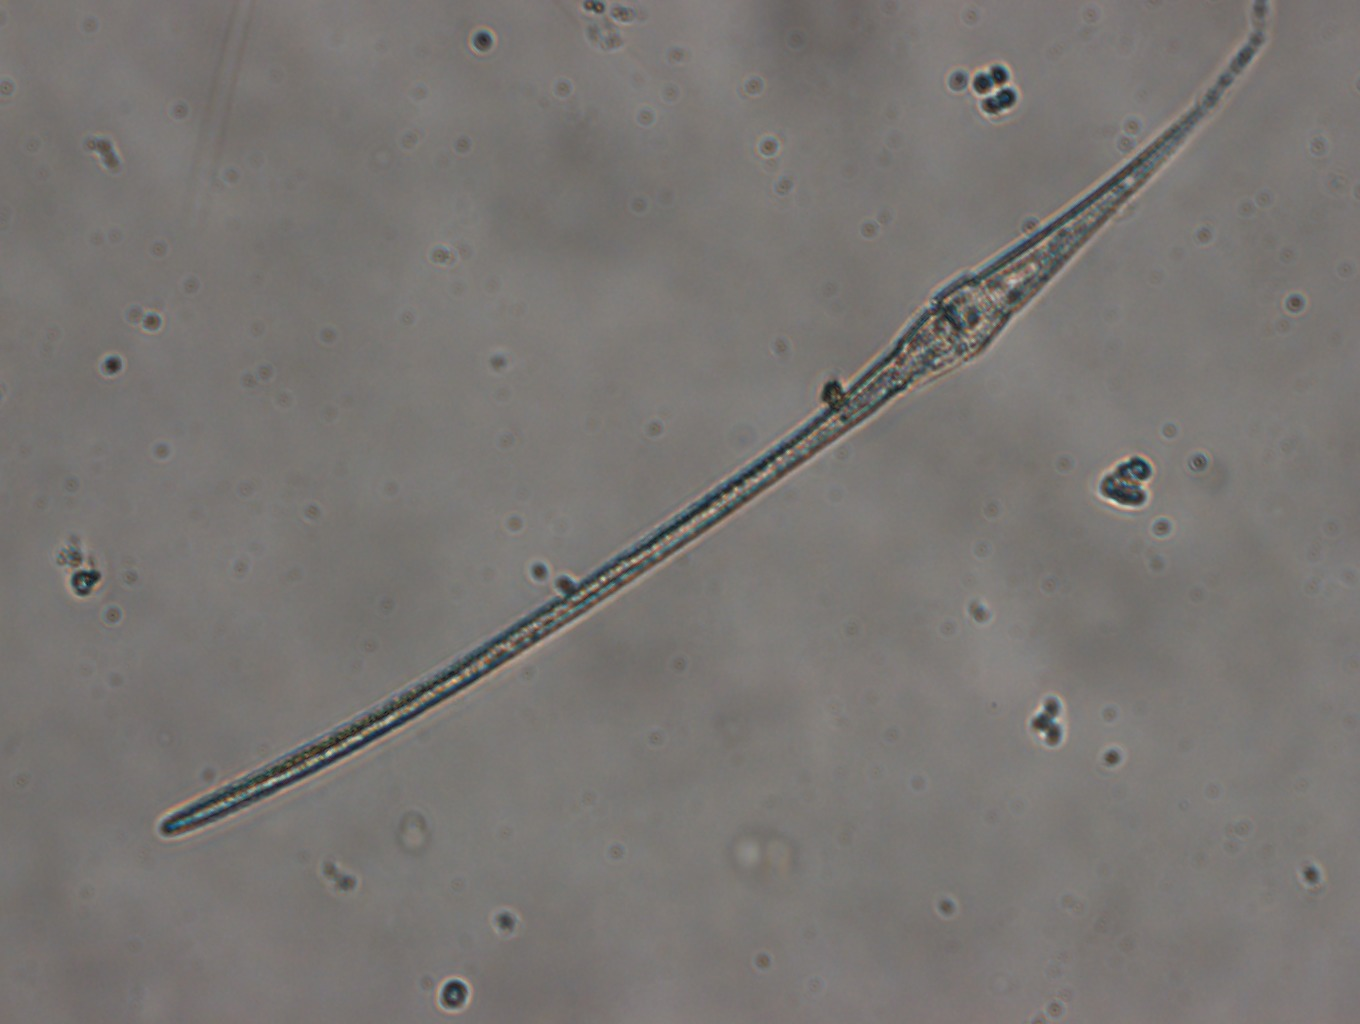ceratium fusus: (151, 31, 1266, 843)
